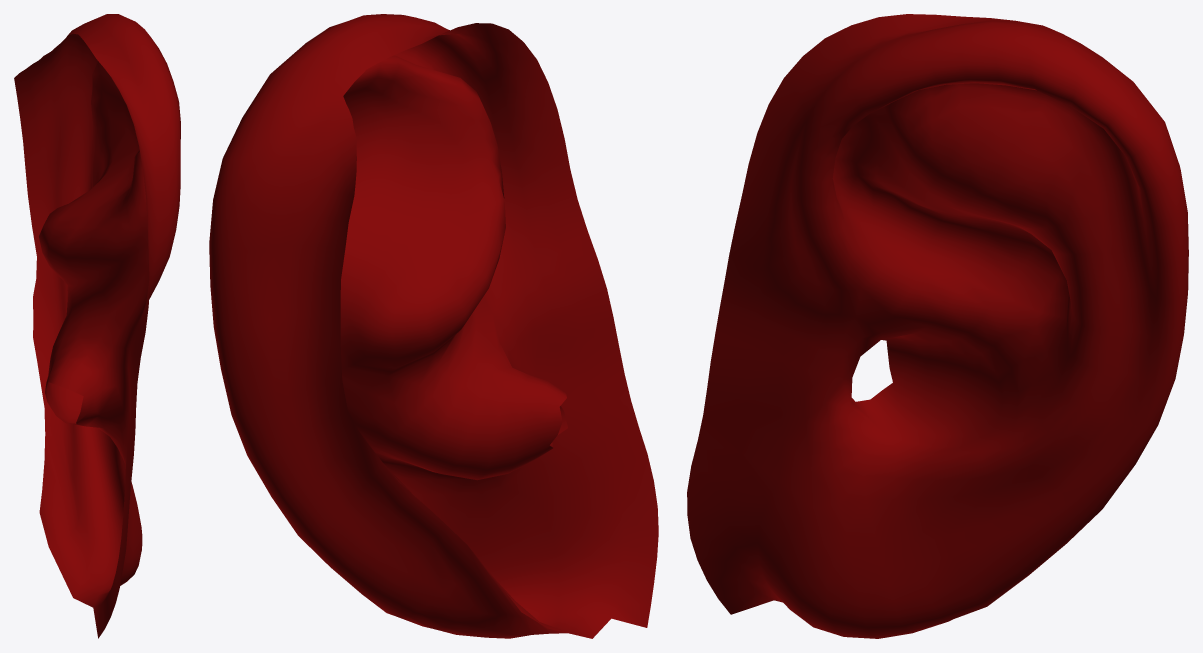
File: hema_to_shrunk1.fbx
3 renders of one model, left to right at view 1: azimuth 30°, elevation 25°; view 2: azimuth 150°, elevation 25°; view 3: azimuth 270°, elevation 25°, orthographic. The views are drawn at different scales.
Parts seen in each view (by area): view 1: ear_hema>shrunk; view 2: ear_hema>shrunk; view 3: ear_hema>shrunk.
Part boxes in pixels (x1,y1,x2,y2): ear_hema>shrunk: [14, 14, 180, 638]; ear_hema>shrunk: [209, 14, 658, 638]; ear_hema>shrunk: [687, 14, 1188, 638].
Size of the model in its own units: 27.12 by 76.27 by 51.65.
